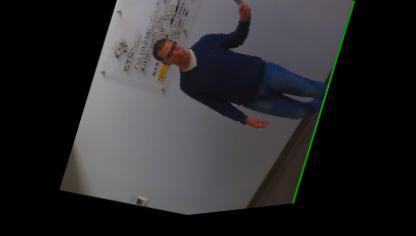knife: (216, 0, 260, 26)
